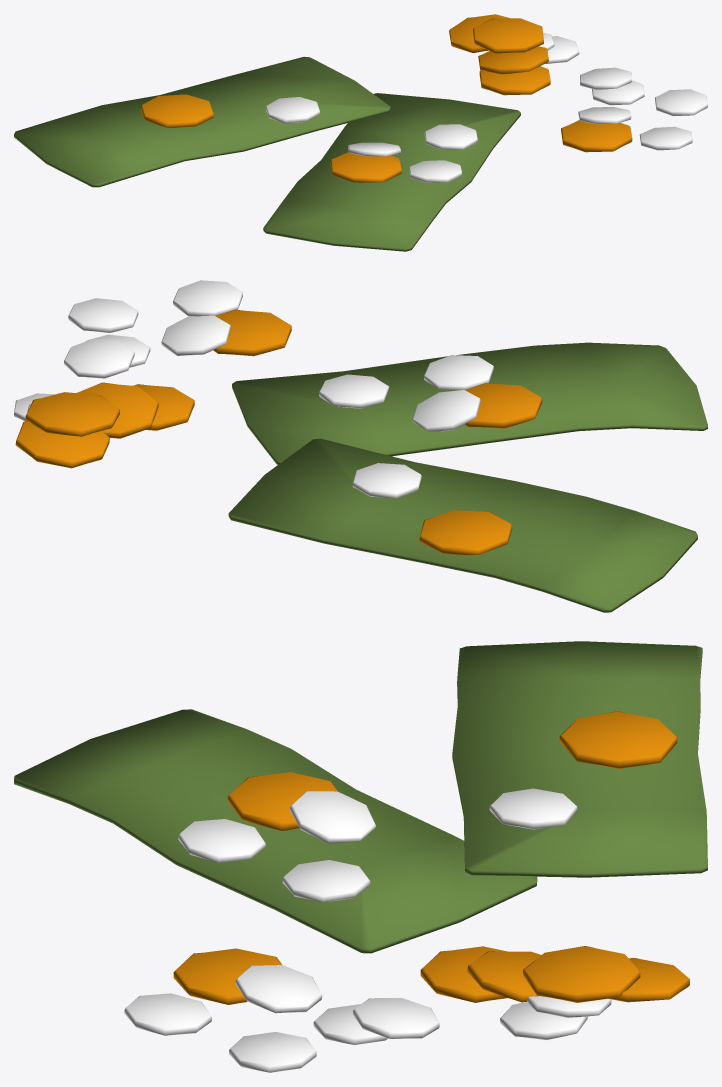
Rendered from money.glb.
The picture shows the model from 3 angles, top to bottom: view 1: azimuth 30°, elevation 25°; view 2: azimuth 150°, elevation 25°; view 3: azimuth 270°, elevation 25°; orthographic projection. The views are drawn at different scales.
Parts seen in each view (by area): view 1: Money; view 2: Money; view 3: Money.
Part boxes in pixels (x1=…): Money: x1=14, y1=14, x2=707, y2=251; Money: x1=14, y1=280, x2=707, y2=612; Money: x1=14, y1=641, x2=707, y2=1072.
Size of the model in its own units: 0.4482 by 0.0163 by 0.3065.
